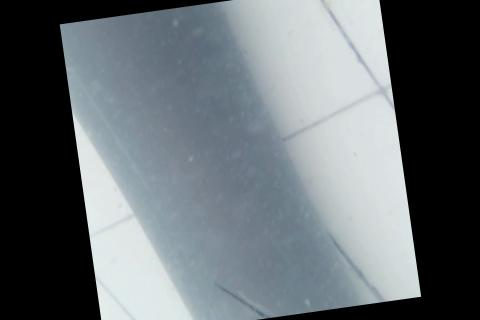keretakan: (209, 265, 339, 320)
